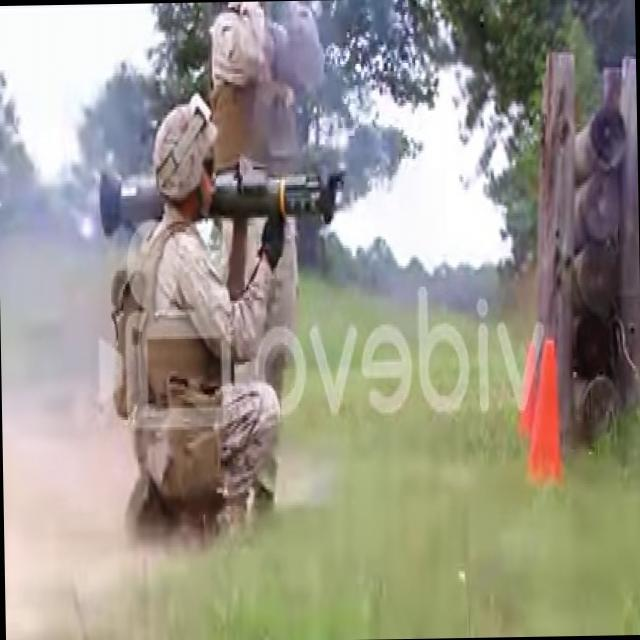rocket: (98, 169, 340, 237)
